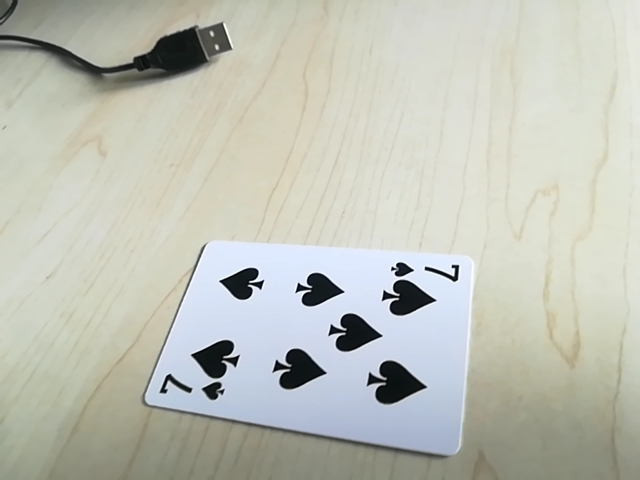ht 7: (153, 375, 228, 405), (387, 257, 463, 285)
